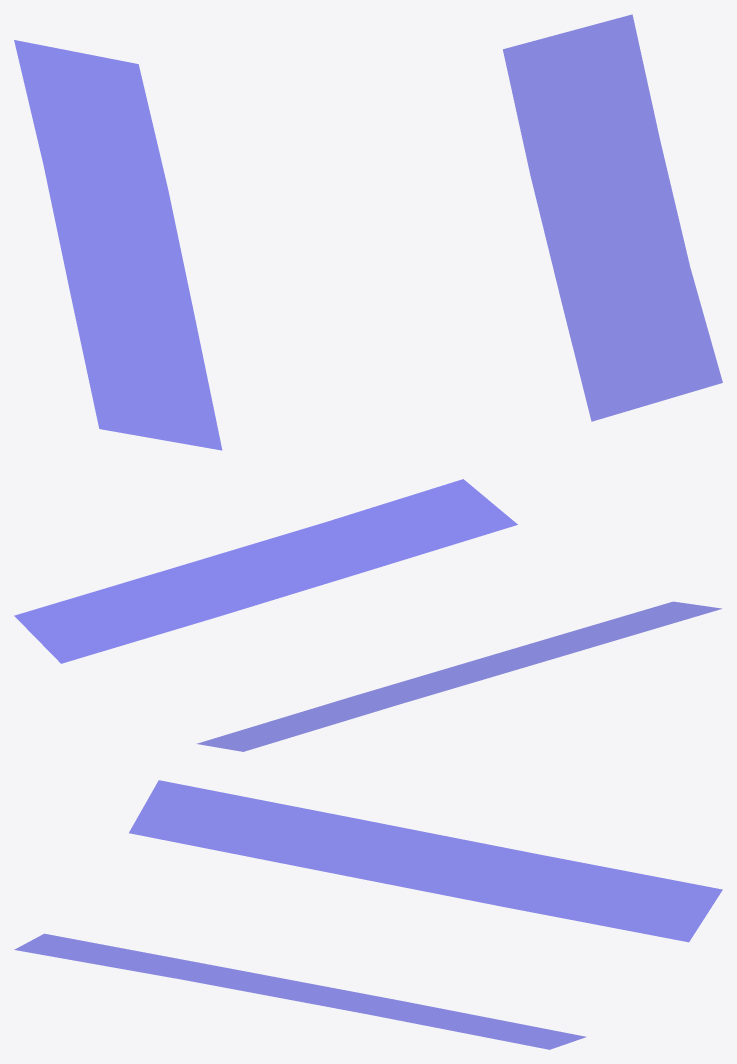
Rendered from track_la_coll_off_23.fbx.
3 renders of one model, top to bottom at view 1: azimuth 30°, elevation 25°; view 2: azimuth 150°, elevation 25°; view 3: azimuth 270°, elevation 25°, orthographic. The views are drawn at different scales.
Visible parts, largest first — view 1: track_la_coll_off_23; view 2: track_la_coll_off_23; view 3: track_la_coll_off_23.
Part boxes in pixels (x1=…): track_la_coll_off_23: x1=14, y1=14, x2=722, y2=450; track_la_coll_off_23: x1=14, y1=479, x2=721, y2=751; track_la_coll_off_23: x1=14, y1=780, x2=722, y2=1049.
Size of the model in its own units: 53.23 by 1.89 by 59.02.
